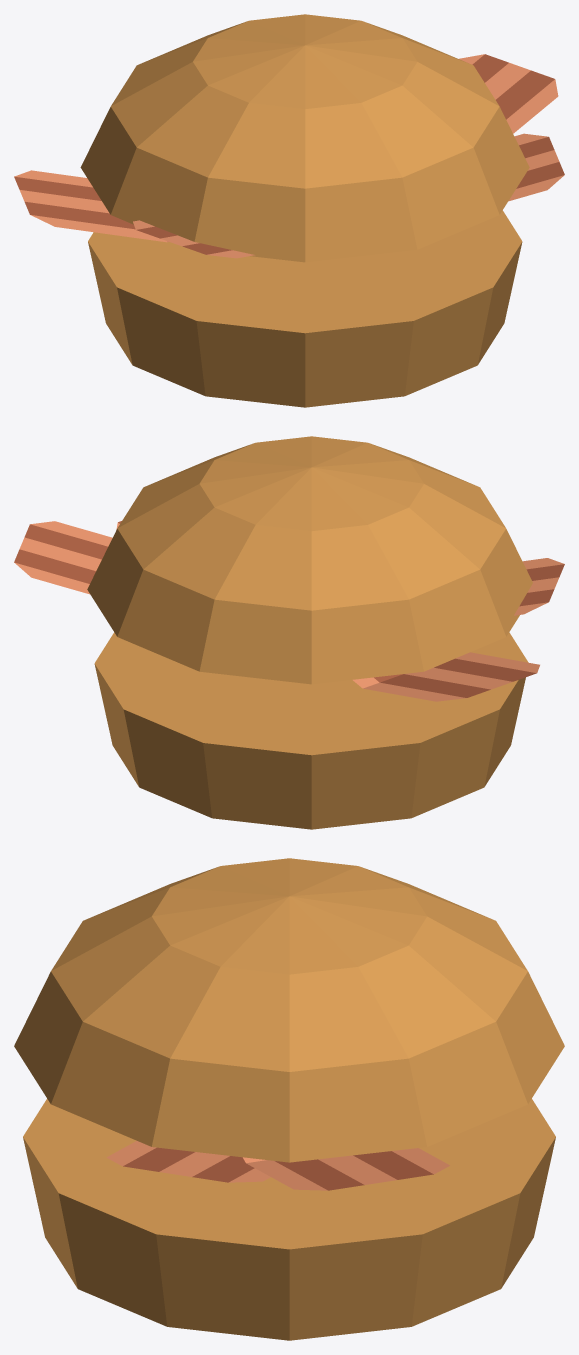
The model's file is bacon-butty.glb.
3 views of the same model, one above another, from view 1: azimuth 30°, elevation 25°; view 2: azimuth 150°, elevation 25°; view 3: azimuth 270°, elevation 25° (orthographic). The views are drawn at different scales.
Visible parts, largest first — view 1: bacon_butty; view 2: bacon_butty; view 3: bacon_butty.
Part boxes in pixels (x1,y1,x2,y2): bacon_butty: (14,14,564,407); bacon_butty: (14,436,564,829); bacon_butty: (14,858,564,1340).
Bounding box in the file's own units: 0.1646 × 0.0847 × 0.124.
